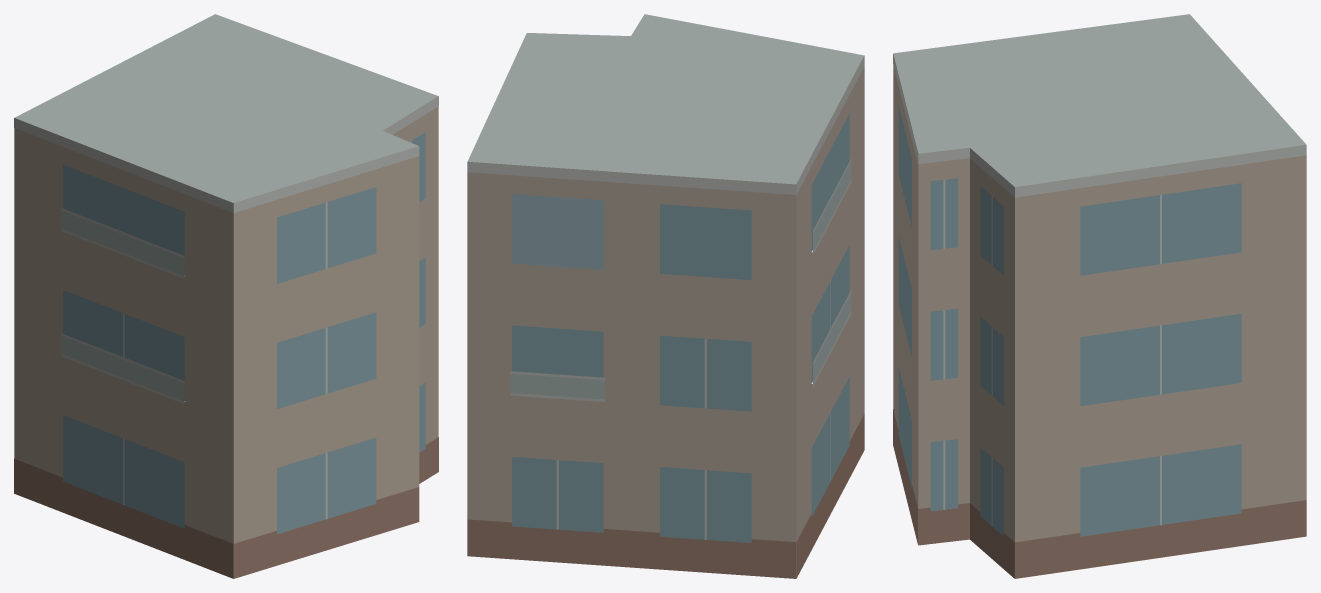
The model's file is survey-upis-32464302.glb.
3 views of the same model, side by side, from view 1: azimuth 30°, elevation 25°; view 2: azimuth 150°, elevation 25°; view 3: azimuth 270°, elevation 25° (orthographic). The views are drawn at different scales.
Visible parts, largest first — view 1: survey-upis-32464302.tmp; view 2: survey-upis-32464302.tmp; view 3: survey-upis-32464302.tmp.
Boxes of the visible parts, x1=… form: survey-upis-32464302.tmp: x1=14, y1=14, x2=438, y2=578; survey-upis-32464302.tmp: x1=467, y1=14, x2=864, y2=578; survey-upis-32464302.tmp: x1=893, y1=14, x2=1306, y2=578.
Bounding box in the file's own units: 8.69 × 9.15 × 8.77.
